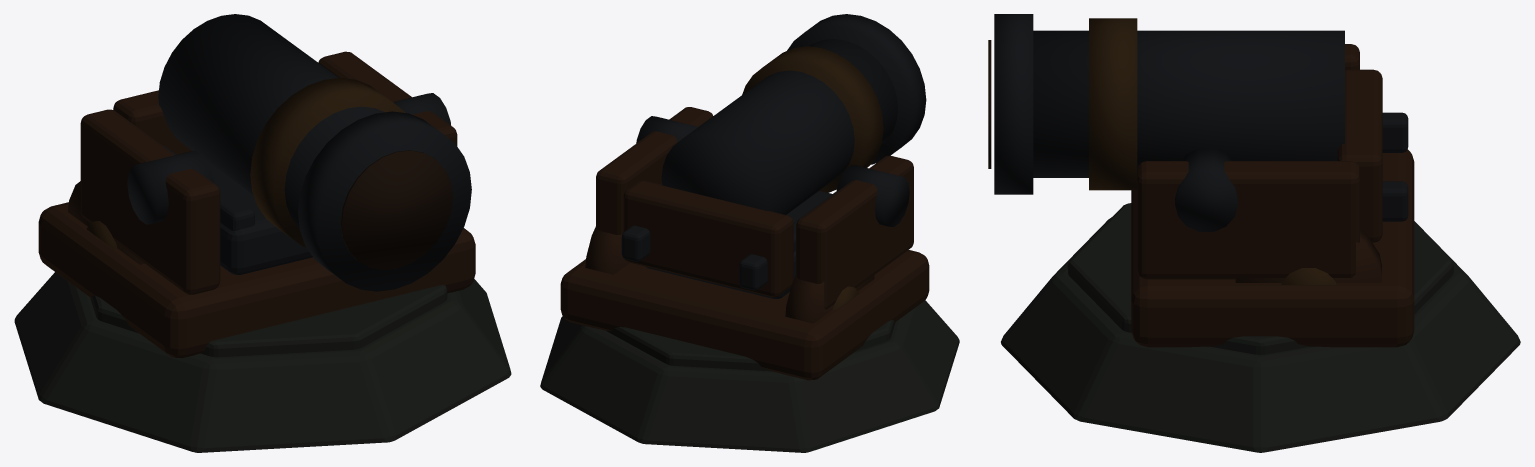
File: TowerSiege1.obj
3 views of the same model, side by side, from view 1: azimuth 30°, elevation 25°; view 2: azimuth 150°, elevation 25°; view 3: azimuth 270°, elevation 25° (orthographic). The views are drawn at different scales.
Visible parts, largest first — view 1: limestone_socket_lower_course, oak_carriage, forged_mortar_barrel, carriage_cheek, black_muzzle_rim, dark_bore, limestone_socket_upper_course, bronze_reinforce_collar, iron_cradle, iron_trunnion, carriage_cheek.001, recoil_stop (+3 smaller); view 2: limestone_socket_lower_course, oak_carriage, forged_mortar_barrel, recoil_stop, carriage_cheek, black_muzzle_rim, bronze_reinforce_collar, carriage_cheek.001, limestone_socket_upper_course, iron_trunnion, wood_wheel, wood_wheel.001 (+4 smaller); view 3: limestone_socket_lower_course, forged_mortar_barrel, carriage_cheek.001, oak_carriage, bronze_reinforce_collar, limestone_socket_upper_course, black_muzzle_rim, recoil_stop, iron_trunnion.001, wood_wheel.001, iron_carriage_brace.001, iron_carriage_brace (+1 smaller).
Boxes of the visible parts, x1,y1,x2,y2 form: limestone_socket_lower_course: (14, 272, 511, 452); oak_carriage: (38, 202, 475, 358); forged_mortar_barrel: (158, 14, 384, 228); carriage_cheek: (80, 109, 220, 294); black_muzzle_rim: (298, 111, 471, 291); dark_bore: (340, 150, 452, 270); limestone_socket_upper_course: (90, 285, 447, 357); bronze_reinforce_collar: (250, 77, 405, 247); iron_cradle: (206, 161, 312, 274); iron_trunnion: (127, 150, 214, 224); carriage_cheek.001: (318, 51, 457, 145); recoil_stop: (113, 90, 192, 154); limestone_socket_lower_course: (540, 300, 959, 452); oak_carriage: (560, 250, 929, 380); forged_mortar_barrel: (661, 39, 897, 214); recoil_stop: (623, 180, 793, 297); carriage_cheek: (796, 155, 913, 309); black_muzzle_rim: (787, 14, 926, 164); bronze_reinforce_collar: (742, 46, 883, 192); carriage_cheek.001: (596, 107, 712, 260); limestone_socket_upper_course: (606, 320, 895, 371); iron_trunnion: (836, 165, 909, 227); wood_wheel: (785, 275, 874, 323); wood_wheel.001: (585, 226, 629, 274); limestone_socket_lower_course: (1001, 217, 1520, 452); forged_mortar_barrel: (1033, 30, 1344, 177); carriage_cheek.001: (1137, 161, 1359, 279); oak_carriage: (1131, 149, 1414, 347); bronze_reinforce_collar: (1089, 18, 1137, 190); limestone_socket_upper_course: (1067, 203, 1453, 354); black_muzzle_rim: (994, 14, 1033, 194); recoil_stop: (1337, 69, 1382, 242); iron_trunnion.001: (1175, 148, 1237, 231); wood_wheel.001: (1235, 229, 1381, 282); iron_carriage_brace.001: (1382, 181, 1408, 221); iron_carriage_brace: (1382, 112, 1408, 152).
Size of the model in its own units: 1.73 by 1.18 by 1.77.
